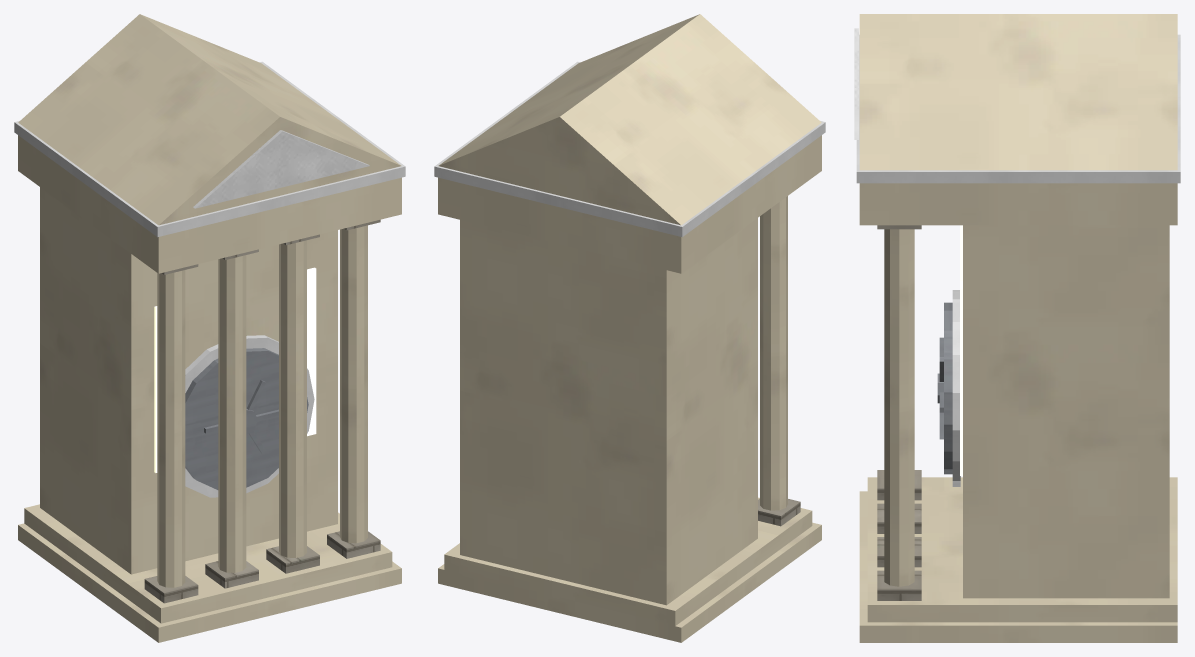
File: protocol.aave.glb
The picture shows the model from 3 angles, left to right: view 1: azimuth 30°, elevation 25°; view 2: azimuth 150°, elevation 25°; view 3: azimuth 270°, elevation 25°; orthographic projection. The views are drawn at different scales.
Visible parts, largest first — view 1: building.protocol.aave; view 2: building.protocol.aave; view 3: building.protocol.aave.
Part boxes in pixels (left/top/right/bottom): building.protocol.aave: left=14, top=14, right=405, bottom=642; building.protocol.aave: left=434, top=14, right=825, bottom=642; building.protocol.aave: left=854, top=14, right=1180, bottom=642.
Size of the model in its own units: 2.04 by 3.9 by 2.05.
6 materials, 5 textured.
